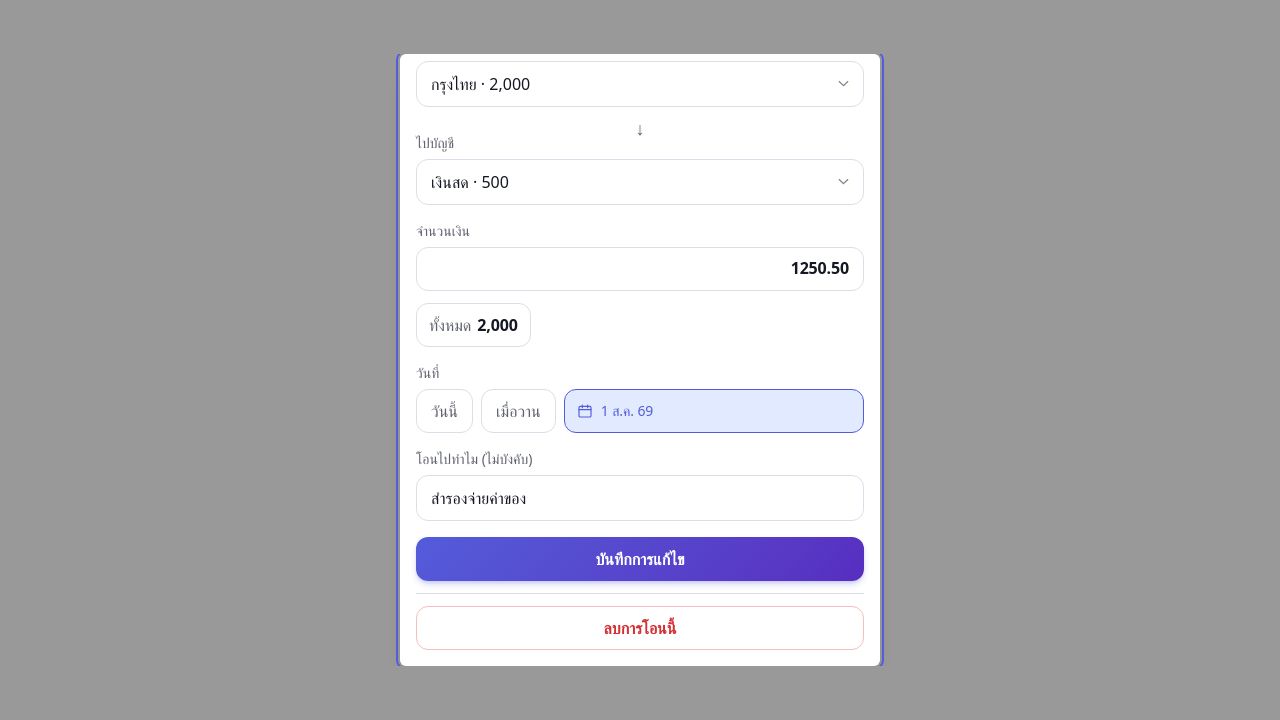
แก้ไขการโอนเดิม › ต้องกดสองครั้งถึงจะลบจริง
This screenshot has width=1280, height=720.
(page scrolled)
Click the button "ลบการโอนนี้".
click(640, 628)  # box top-left (416, 606), bottom-right (864, 650)
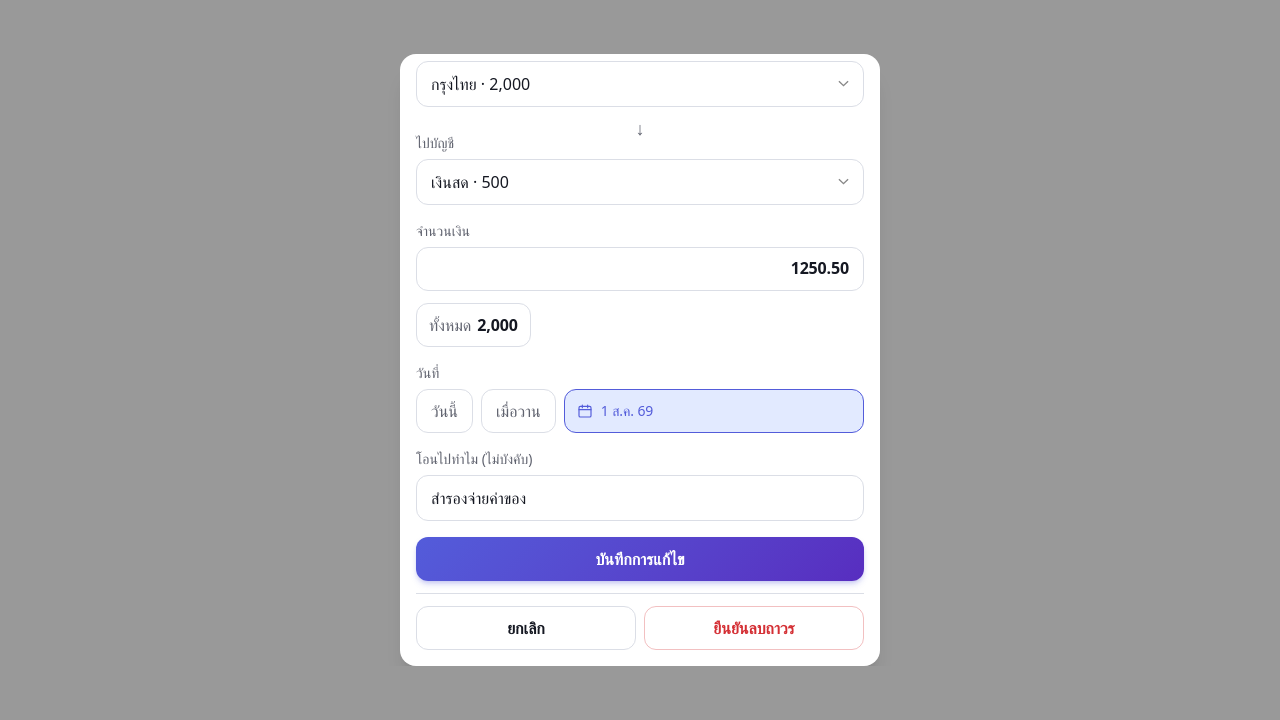
Expected: the button "ยืนยันลบถาวร" is shown, top-left (644, 606), bottom-right (864, 650)
Expected: the button "ยกเลิก" is shown, top-left (416, 606), bottom-right (636, 650)
